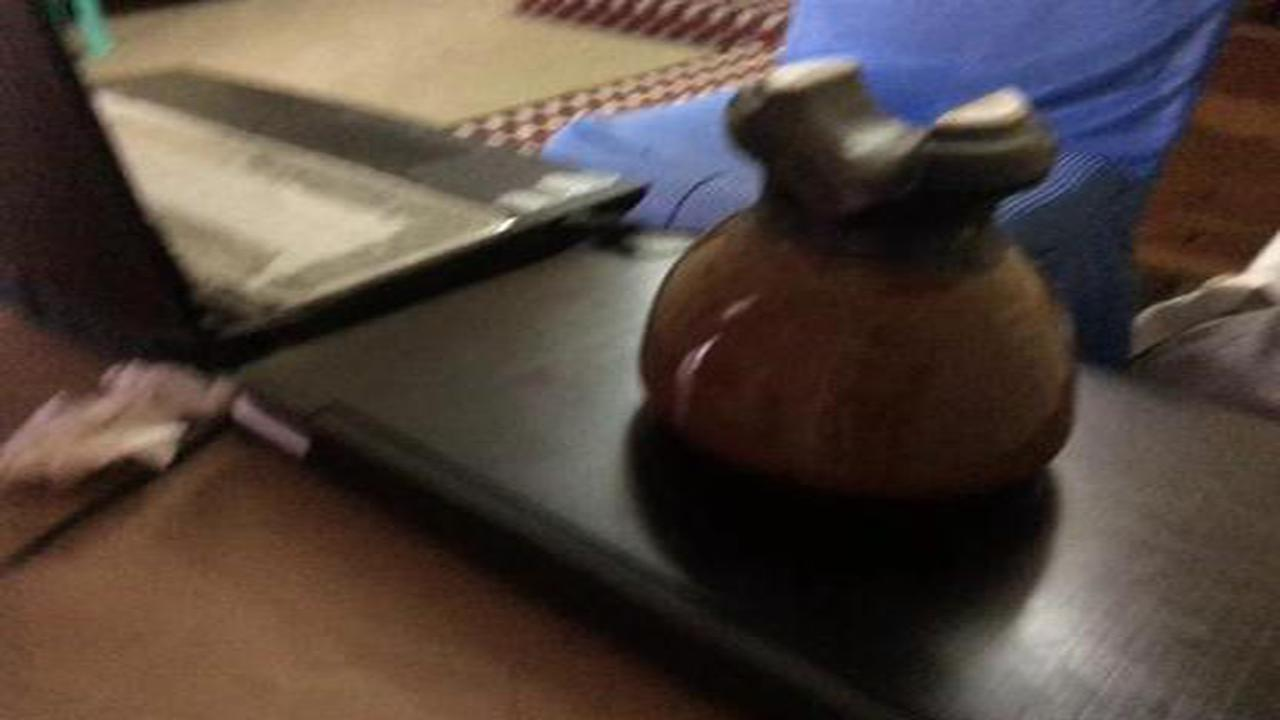insulator_pin: (610, 47, 1105, 520)
